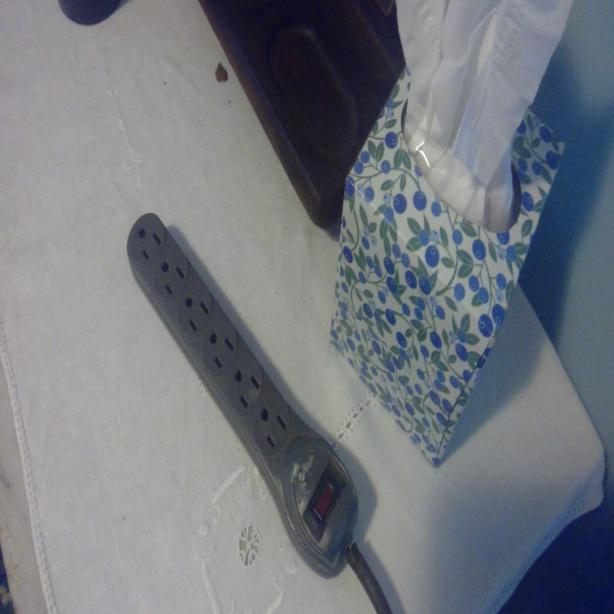typeb: (255, 399, 288, 452), (131, 217, 163, 266), (205, 321, 235, 373), (230, 361, 260, 412), (182, 288, 210, 332), (160, 258, 184, 300)
